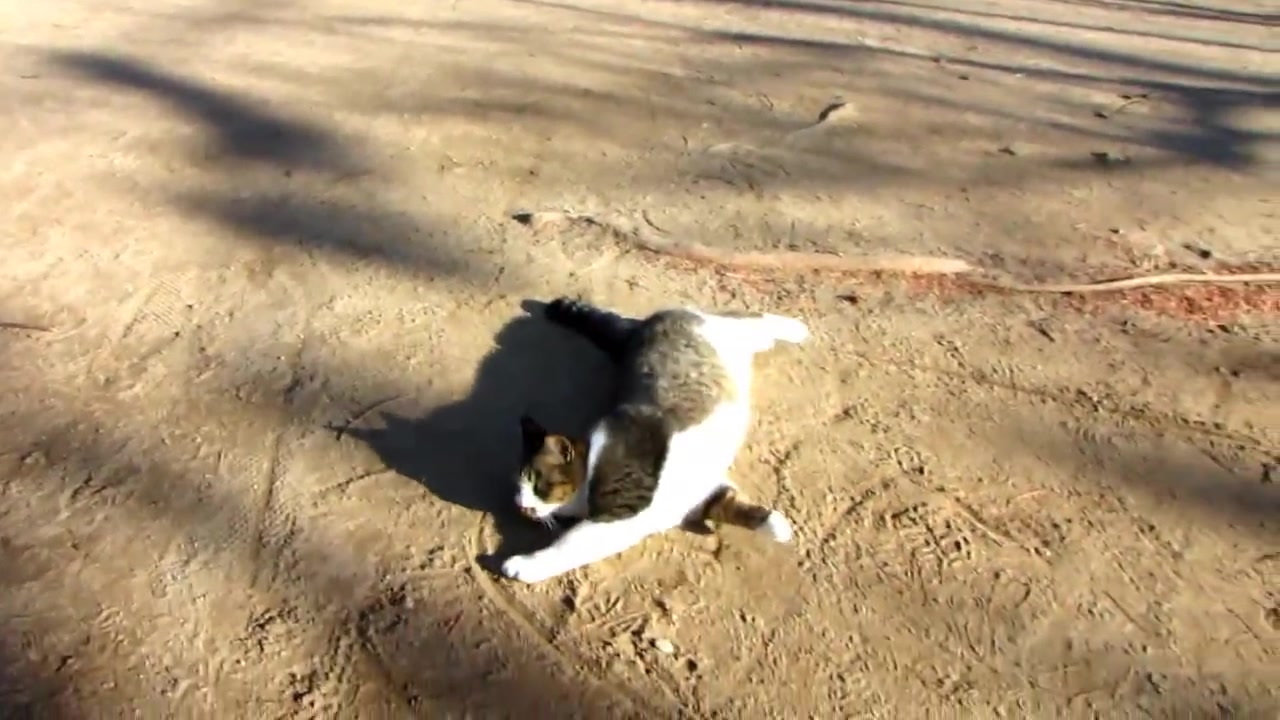cat: (493, 273, 826, 589)
